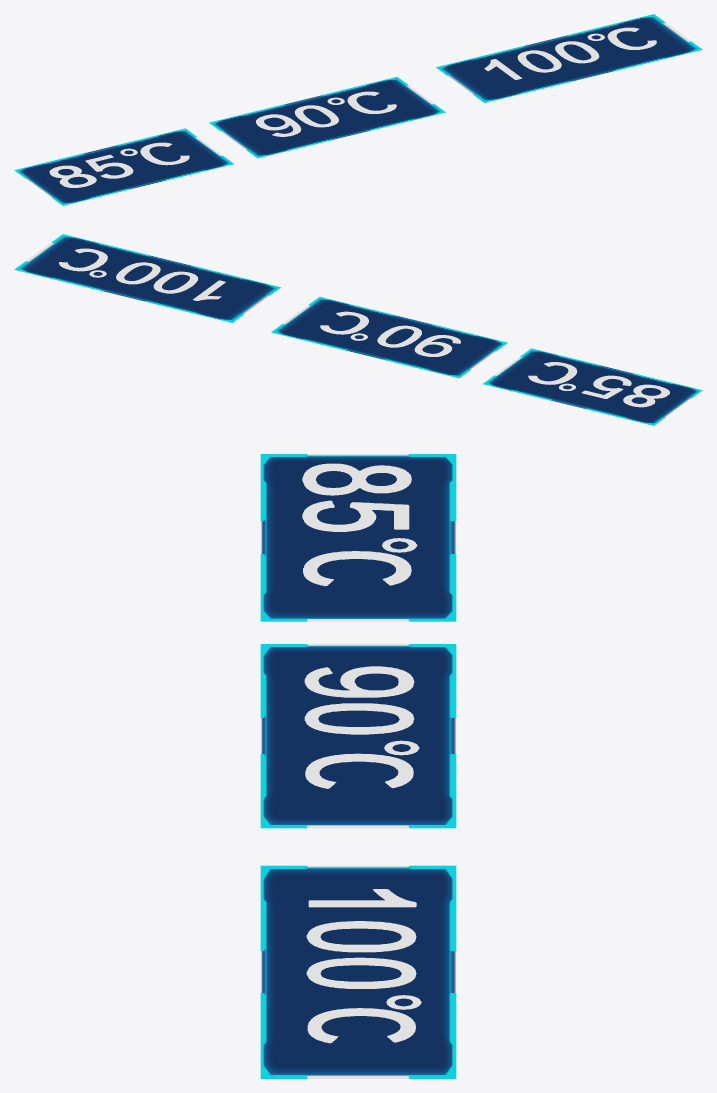
The model's file is SheShiDu.FBX.
The picture shows the model from 3 angles, top to bottom: view 1: azimuth 30°, elevation 25°; view 2: azimuth 150°, elevation 25°; view 3: azimuth 270°, elevation 25°; orthographic projection. The views are drawn at different scales.
Visible parts, largest first — view 1: Object053, Object054, Plane008, Object051, Plane007, Object052; view 2: Object053, Object054, Plane008, Object051, Plane007, Object052; view 3: Object053, Object054, Plane008, Object051, Plane007, Object052.
Part boxes in pixels (bbox=[...]): Object053: bbox=[436, 14, 702, 102]; Object054: bbox=[209, 77, 445, 158]; Plane008: bbox=[14, 128, 233, 205]; Object051: bbox=[484, 27, 656, 79]; Plane007: bbox=[49, 142, 189, 187]; Object052: bbox=[256, 91, 396, 136]; Object053: bbox=[14, 234, 280, 322]; Object054: bbox=[271, 297, 507, 378]; Plane008: bbox=[483, 348, 702, 425]; Object051: bbox=[59, 248, 225, 300]; Plane007: bbox=[528, 362, 669, 407]; Object052: bbox=[320, 311, 460, 356]; Object053: bbox=[260, 865, 456, 1078]; Object054: bbox=[260, 644, 456, 828]; Plane008: bbox=[260, 454, 456, 621]; Object051: bbox=[306, 889, 421, 1043]; Plane007: bbox=[302, 463, 417, 586]; Object052: bbox=[304, 666, 419, 788].
Size of the model in its own units: 78.13 by 0.4183 by 10.33.
Materials: 2 (2 with a texture image).
